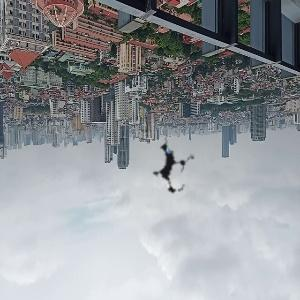drone: (129, 123, 219, 213)
